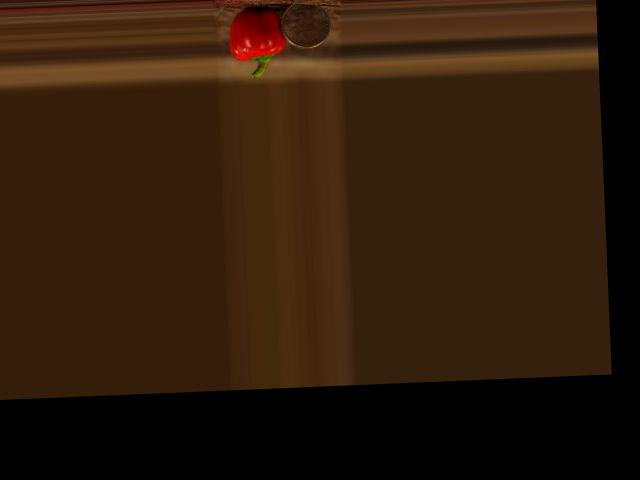bell_pepper: (227, 4, 285, 78)
